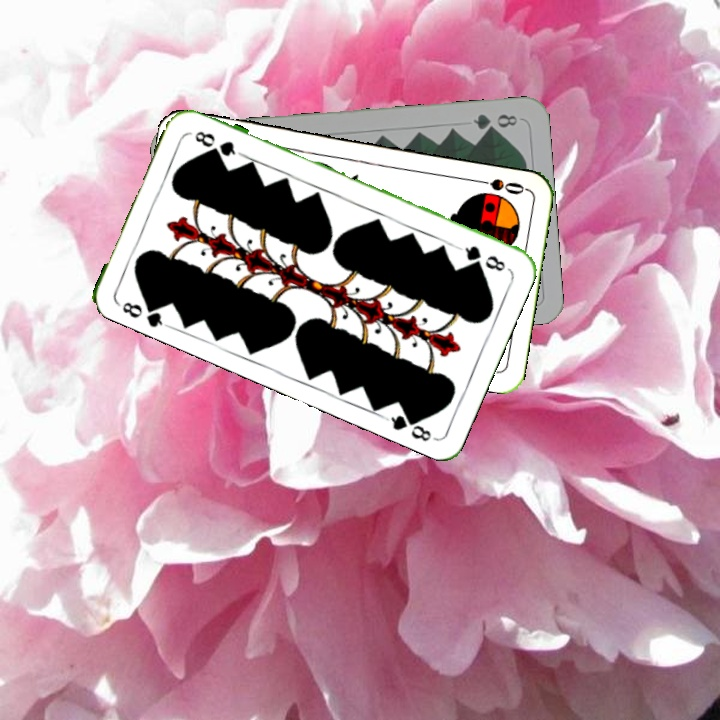G8: (118, 295, 170, 330), (455, 241, 508, 274), (469, 110, 520, 133)
SO: (469, 174, 528, 197)
